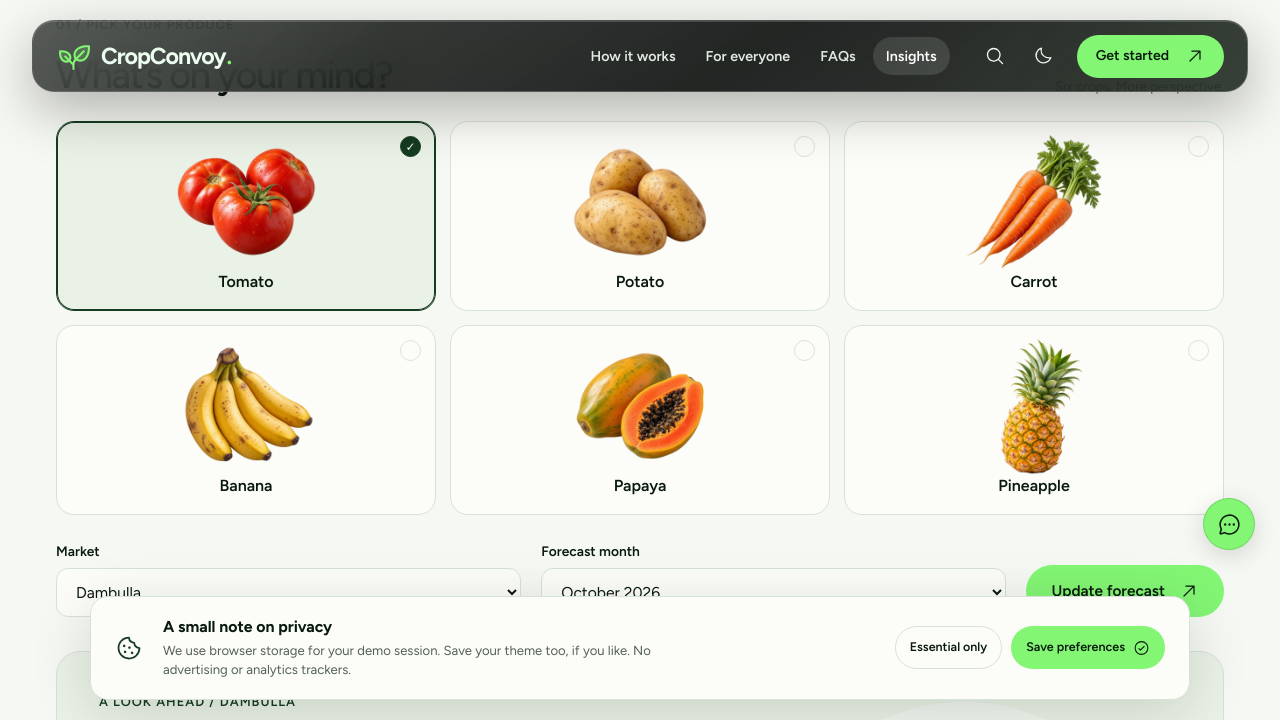
Test: Prediction demo › preserves previous result until explicit update and submits the selected fruit
(page scrolled)
Click the radio button labelled "Banana" at (246,420), box [56,325,436,515]
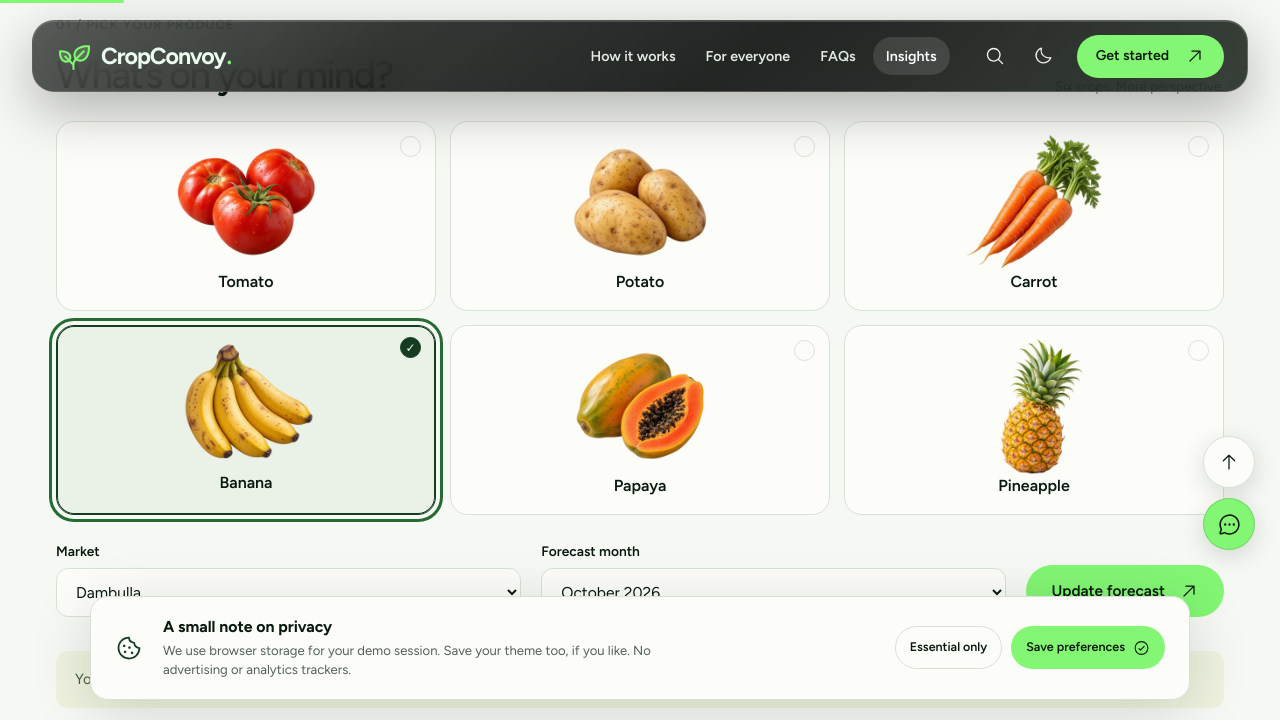
Now the text "Your selections have changed" is shown, box [75,670,767,688]
Click the button "Update forecast" at (1125,591), box [1026,565,1224,617]
(page scrolled)
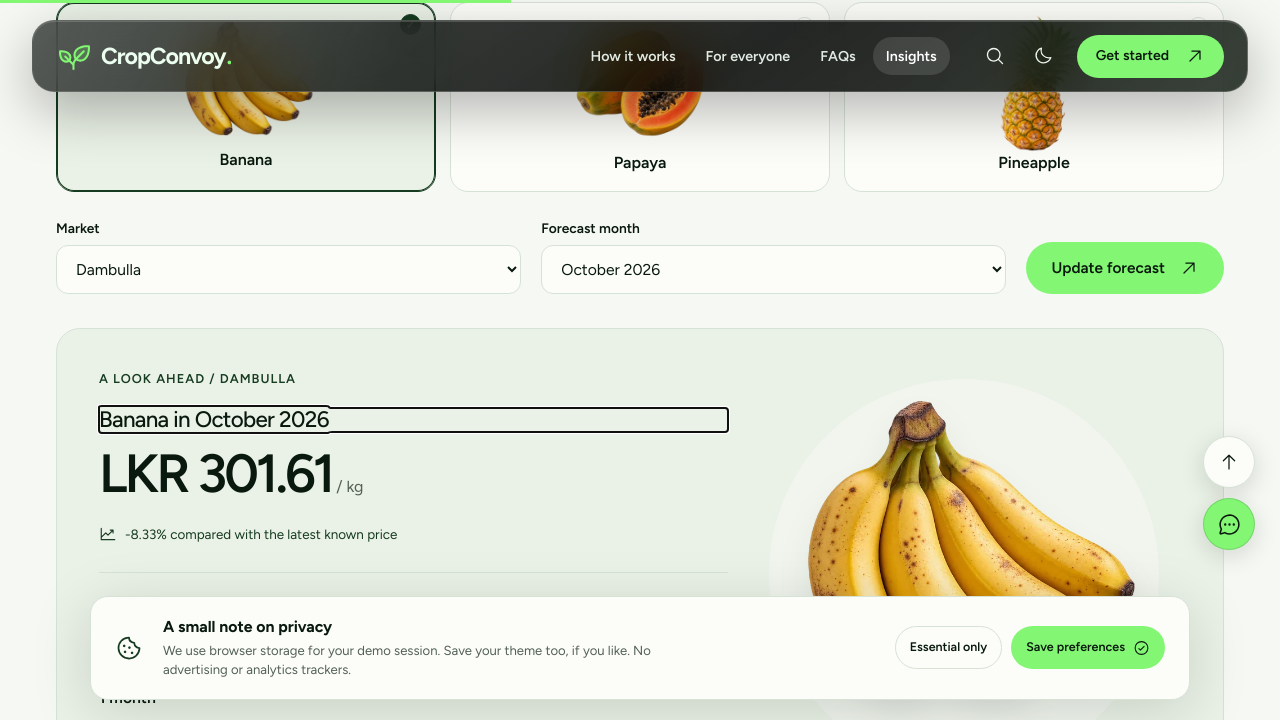
Now the heading "Banana in October 2026" is shown, box [99,406,329,433]
